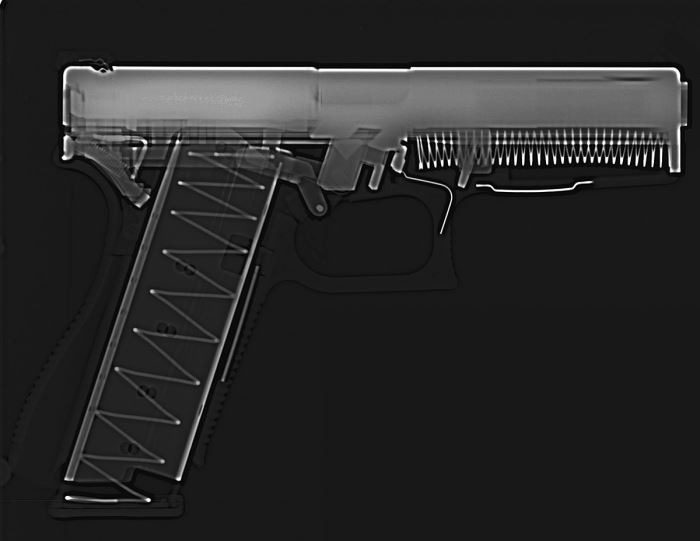gun: (19, 48, 696, 539)
